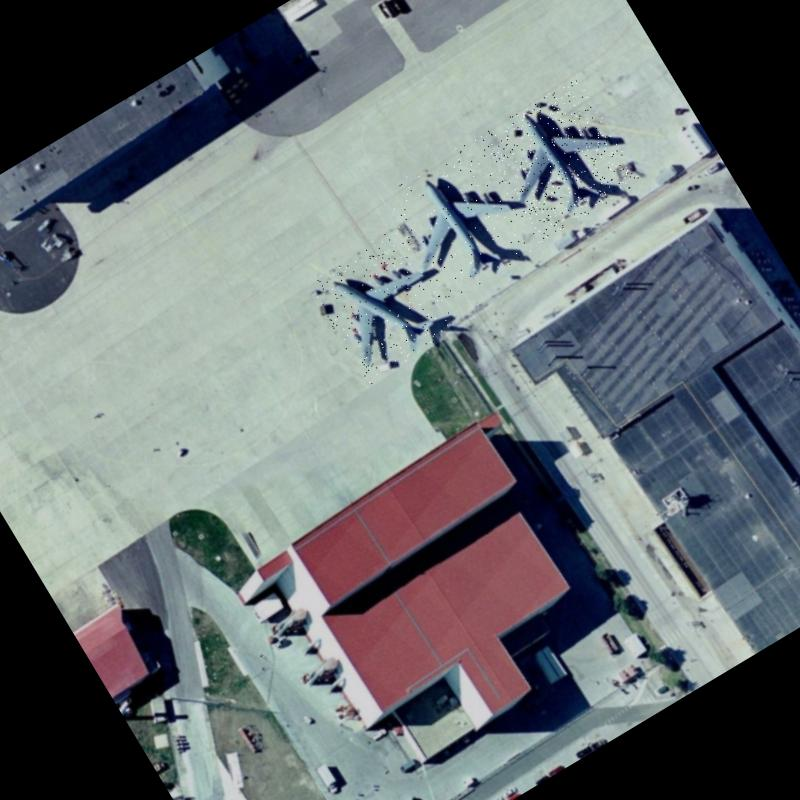A14: (380, 132, 544, 302), (477, 75, 641, 242), (305, 224, 461, 386)
